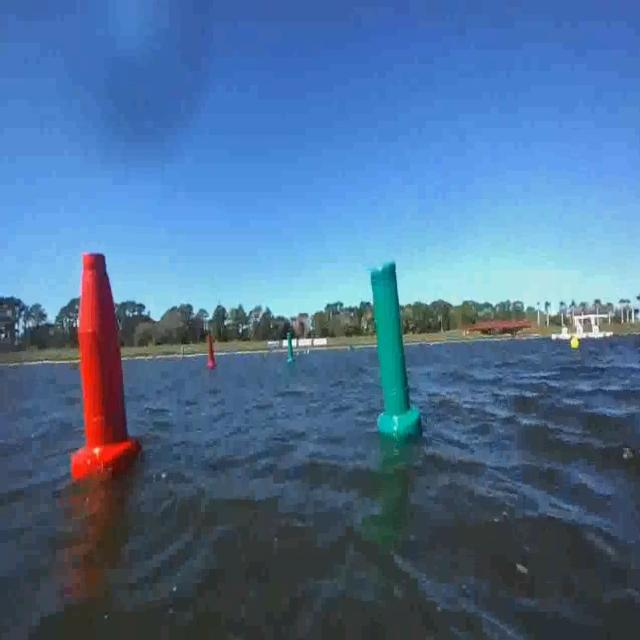green-column-buoy: (372, 257, 422, 439), (286, 334, 296, 366)
red-column-buoy: (72, 252, 140, 478), (206, 335, 217, 369)
yellow-buoy: (570, 337, 580, 352)
